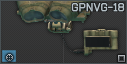GPNVG-18 Night Vision goggles: (0, 0, 127, 64)
